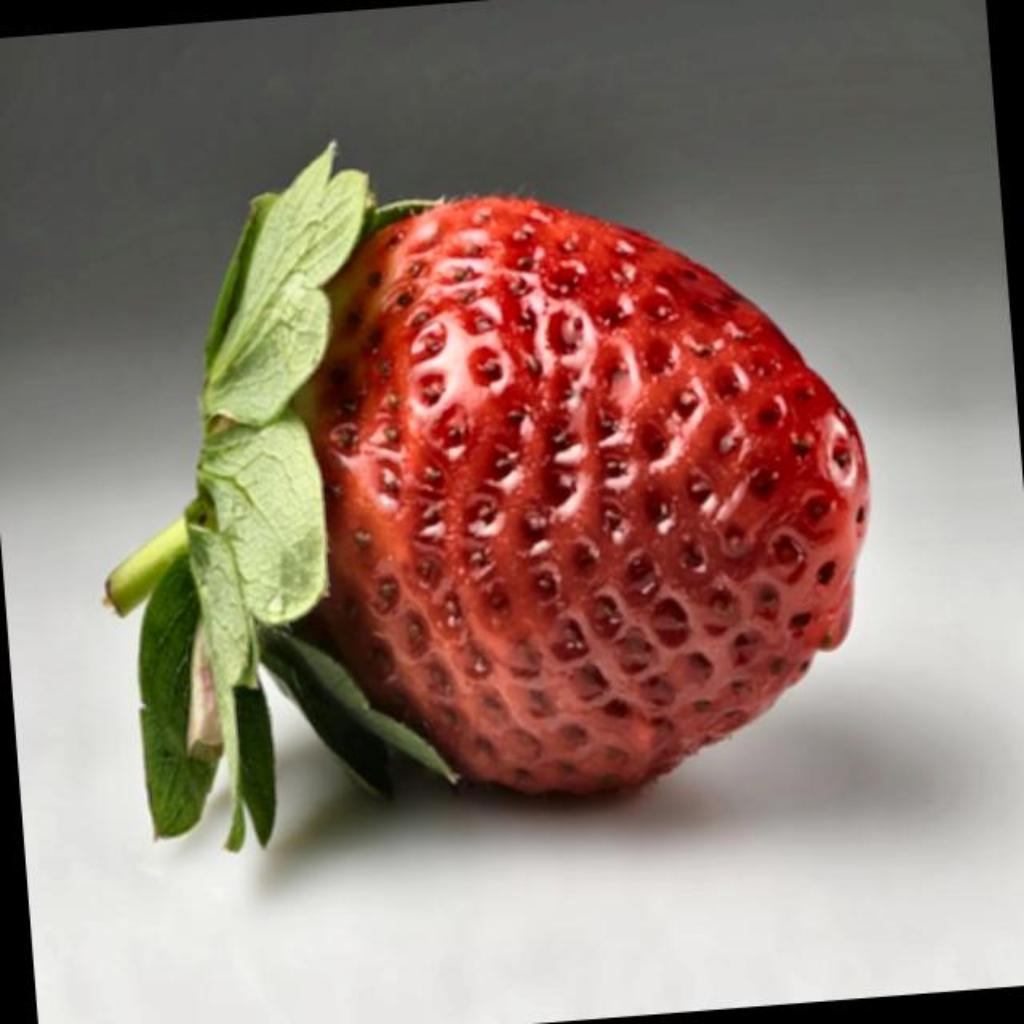strawberry: (106, 144, 868, 849)
